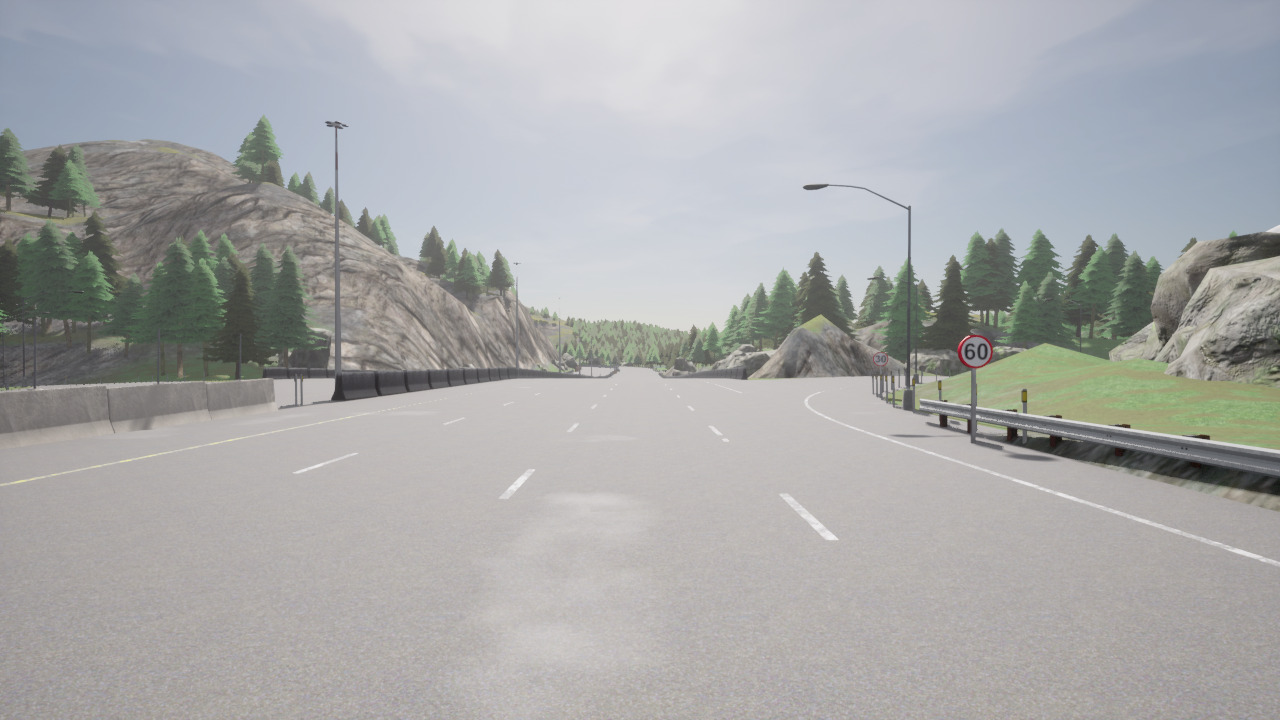sl30: (872, 351, 889, 367)
sl60: (957, 333, 994, 369)
